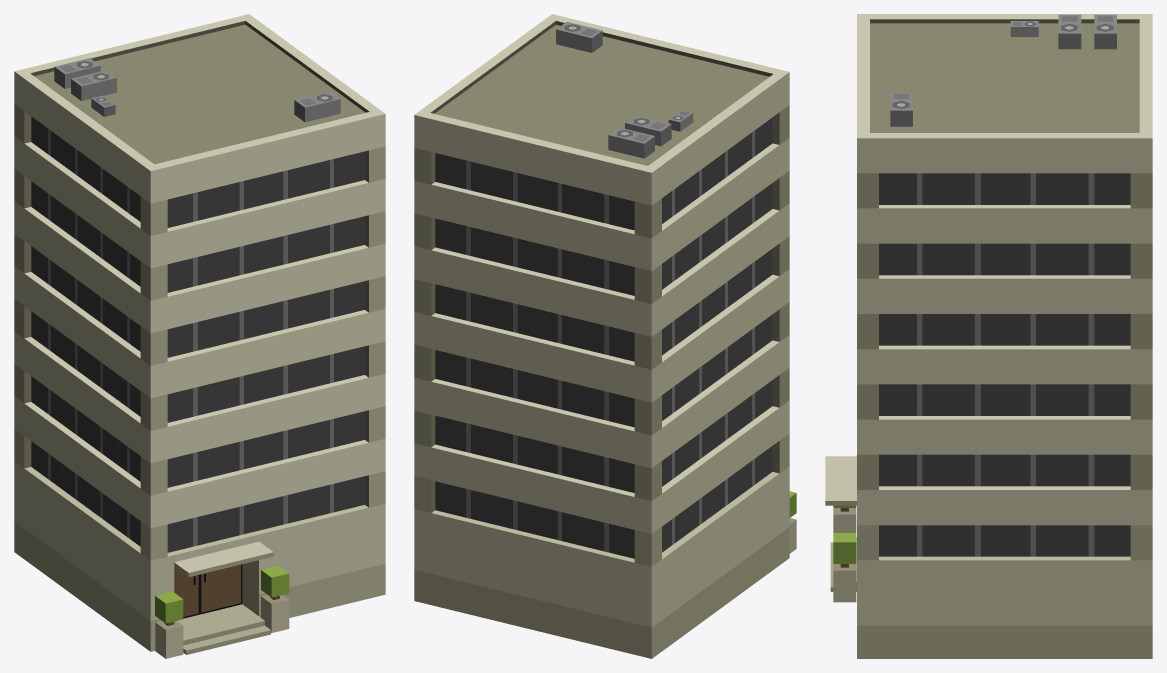
Rendered from office_large_brown.obj.
3 renders of one model, left to right at view 1: azimuth 30°, elevation 25°; view 2: azimuth 150°, elevation 25°; view 3: azimuth 270°, elevation 25°, orthographic. The views are drawn at different scales.
Parts seen in each view (by area): view 1: ST_Building_OfficeLarge_Brown_Untitled.001; view 2: ST_Building_OfficeLarge_Brown_Untitled.001; view 3: ST_Building_OfficeLarge_Brown_Untitled.001.
Part boxes in pixels (box(x1,y1,x2,y2)): ST_Building_OfficeLarge_Brown_Untitled.001: box(14, 14, 385, 658); ST_Building_OfficeLarge_Brown_Untitled.001: box(414, 14, 796, 658); ST_Building_OfficeLarge_Brown_Untitled.001: box(825, 14, 1152, 658).
Bounding box in the file's own units: 13.62 × 27.24 × 15.17.
1 material, 1 textured.
